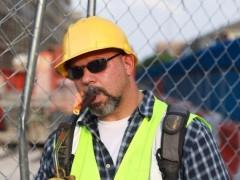helmet: (54, 17, 140, 81)
